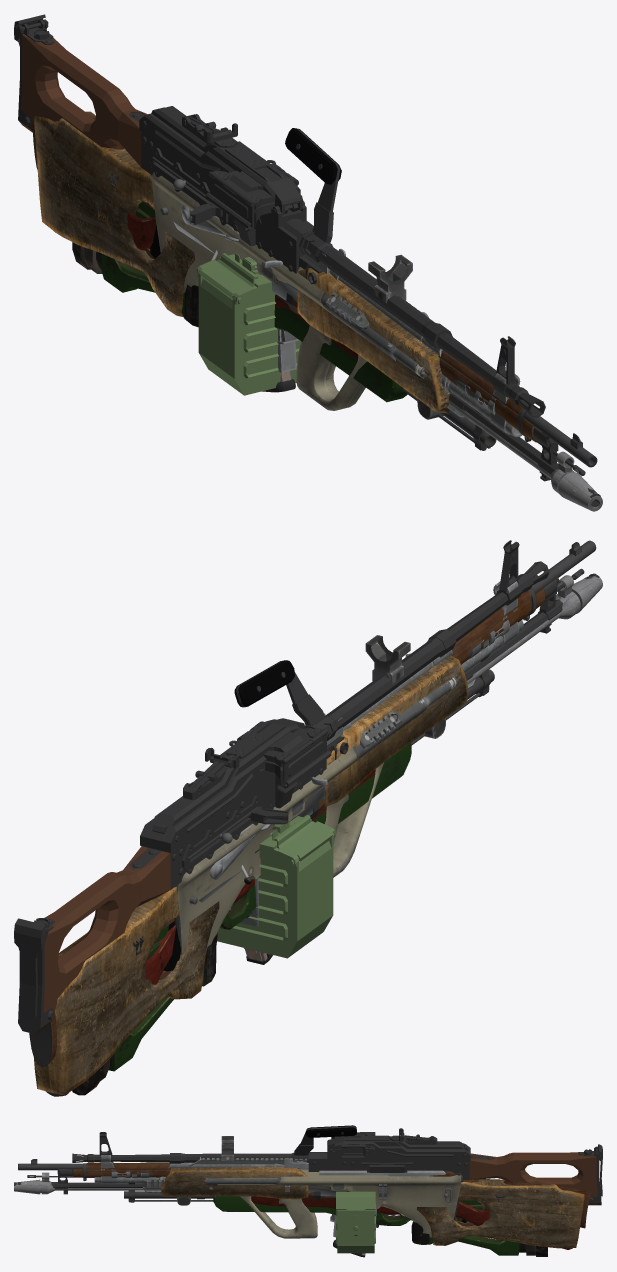
File: rifle.glb
3 renders of one model, top to bottom at view 1: azimuth 30°, elevation 25°; view 2: azimuth 150°, elevation 25°; view 3: azimuth 270°, elevation 25°, orthographic. The views are drawn at different scales.
Parts seen in each view (by area): view 1: pkm, Stock lowpoly__0, Object023_01 - Default_0, pkm_box100, pkm_st, SV98_SV 98.002_0, Hand Lowpoly__0, mosin, svd, body_sks_0, Barell lowpoly__0, Circle.010_sks_0; view 2: pkm, Stock lowpoly__0, Object023_01 - Default_0, pkm_box100, pkm_st, SV98_SV 98.002_0, Hand Lowpoly__0, mosin, svd, body_sks_0, Barell lowpoly__0; view 3: pkm, Object023_01 - Default_0, Stock lowpoly__0, SV98_SV 98.002_0, Hand Lowpoly__0, pkm_st, pkm_box100, mosin, body_sks_0, svd, Krishka lowpoly__0, Barell lowpoly__0 (+3 smaller).
Boxes of the visible parts, <box> form: pkm: <box>14,14,545,417</box>; Stock lowpoly__0: <box>34,111,195,317</box>; Object023_01 - Default_0: <box>150,172,495,419</box>; pkm_box100: <box>196,253,301,395</box>; pkm_st: <box>21,34,147,166</box>; SV98_SV 98.002_0: <box>72,201,602,511</box>; Hand Lowpoly__0: <box>297,268,449,413</box>; mosin: <box>33,117,597,475</box>; svd: <box>108,168,600,506</box>; body_sks_0: <box>55,212,358,359</box>; Barell lowpoly__0: <box>441,375,521,437</box>; Circle.010_sks_0: <box>440,409,496,450</box>; pkm: <box>14,540,549,1034</box>; Stock lowpoly__0: <box>34,887,219,1095</box>; Object023_01 - Default_0: <box>174,620,510,954</box>; pkm_box100: <box>217,815,335,958</box>; pkm_st: <box>38,846,170,1031</box>; SV98_SV 98.002_0: <box>72,575,602,1095</box>; Hand Lowpoly__0: <box>323,655,468,806</box>; mosin: <box>29,540,596,1066</box>; svd: <box>133,573,599,954</box>; body_sks_0: <box>61,769,375,1096</box>; Barell lowpoly__0: <box>461,598,523,672</box>; pkm: <box>72,1125,602,1222</box>; Object023_01 - Default_0: <box>111,1136,463,1238</box>; Stock lowpoly__0: <box>416,1179,584,1248</box>; SV98_SV 98.002_0: <box>14,1172,547,1256</box>; Hand Lowpoly__0: <box>161,1166,308,1199</box>; pkm_st: <box>469,1152,598,1205</box>; pkm_box100: <box>336,1191,375,1253</box>; mosin: <box>18,1159,590,1228</box>; body_sks_0: <box>251,1196,571,1249</box>; svd: <box>14,1169,505,1216</box>; Krishka lowpoly__0: <box>319,1170,445,1176</box>; Barell lowpoly__0: <box>94,1161,165,1183</box>.
Bounding box in the file's own units: 0.1375 × 0.3405 × 1.32.
11 materials, 6 textured.
